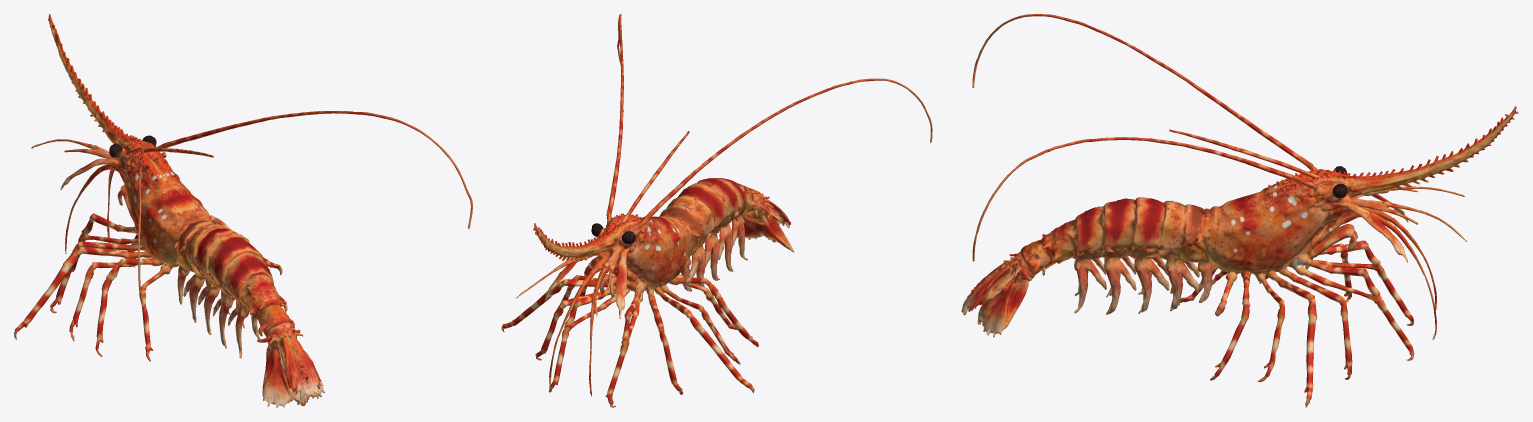
File: shrimp-high.glb
3 renders of one model, left to right at view 1: azimuth 30°, elevation 25°; view 2: azimuth 150°, elevation 25°; view 3: azimuth 270°, elevation 25°, orthographic. The views are drawn at different scales.
Visible parts, largest first — view 1: tripo_node_a572f918-1d0d-4365-8549-0f45d34986db; view 2: tripo_node_a572f918-1d0d-4365-8549-0f45d34986db; view 3: tripo_node_a572f918-1d0d-4365-8549-0f45d34986db.
Part boxes in pixels (box(x1,y1,x2,y2)): tripo_node_a572f918-1d0d-4365-8549-0f45d34986db: box(14, 14, 472, 407); tripo_node_a572f918-1d0d-4365-8549-0f45d34986db: box(501, 14, 932, 407); tripo_node_a572f918-1d0d-4365-8549-0f45d34986db: box(961, 14, 1518, 407).
Bounding box in the file's own units: 0.1277 × 0.0907 × 0.1746.
1 material, 1 textured.
